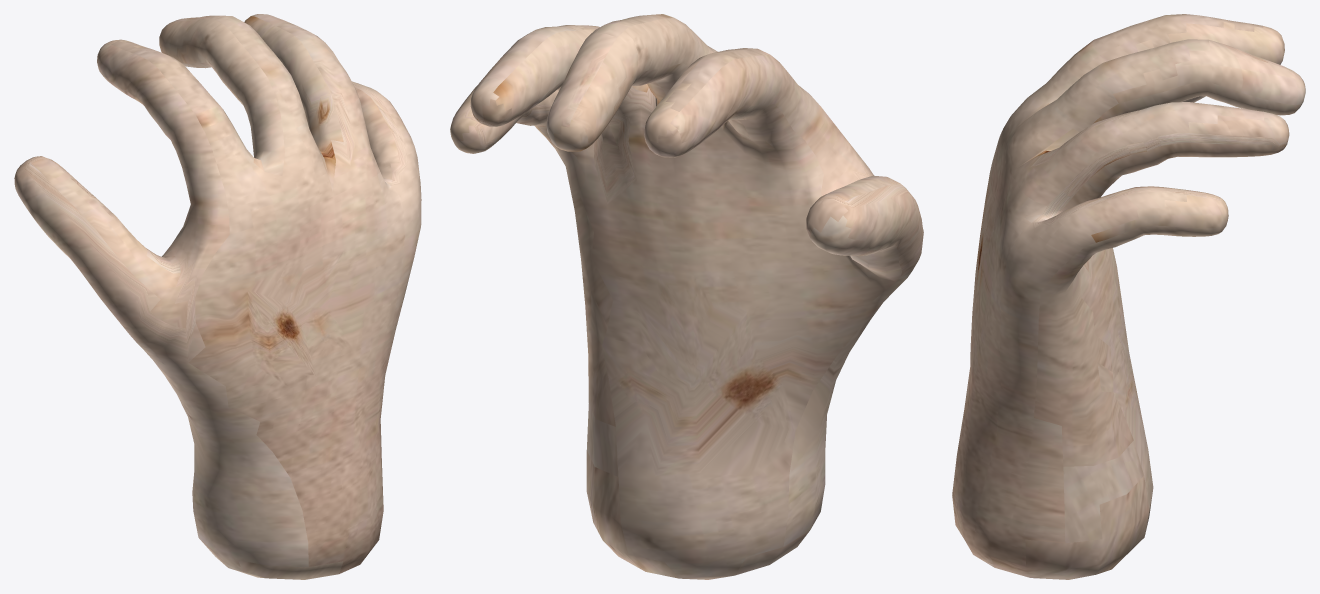
File: hand5.obj
3 views of the same model, side by side, from view 1: azimuth 30°, elevation 25°; view 2: azimuth 150°, elevation 25°; view 3: azimuth 270°, elevation 25° (orthographic). The views are drawn at different scales.
Visible parts, largest first — view 1: Cube.001; view 2: Cube.001; view 3: Cube.001.
Boxes of the visible parts, x1,y1,x2,y2 form: Cube.001: (14,14,421,579); Cube.001: (450,14,923,579); Cube.001: (952,14,1305,579).
Bounding box in the file's own units: 3.69 × 5.04 × 3.1.
